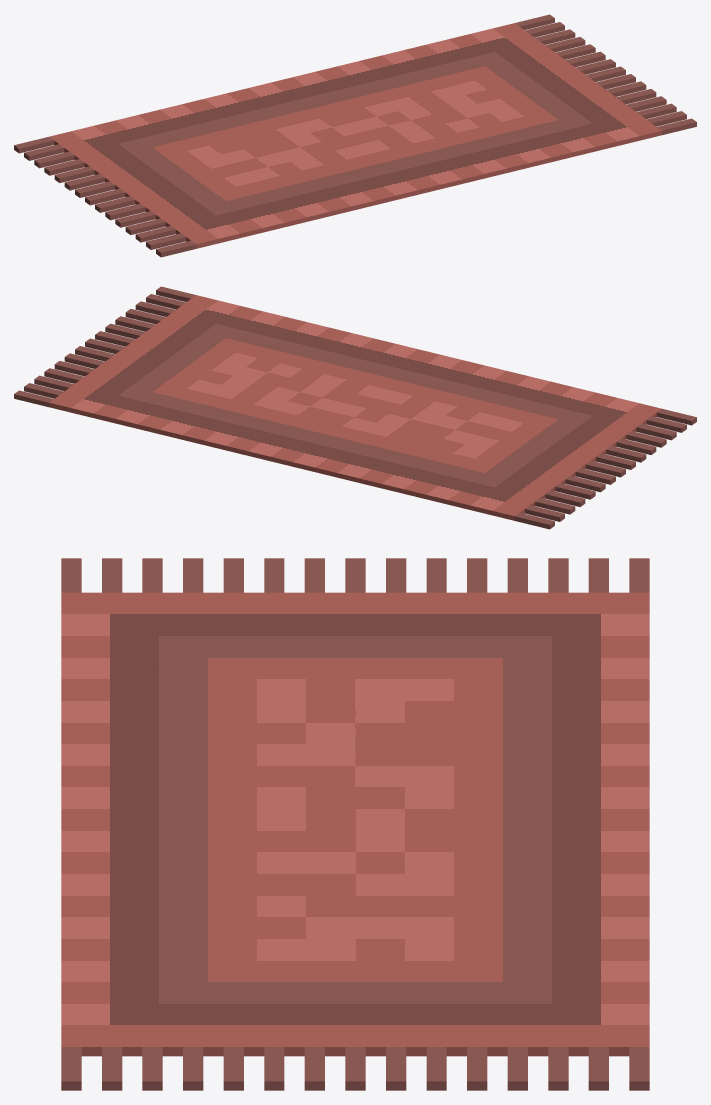
Rendered from square rug.fbx.
The picture shows the model from 3 angles, top to bottom: view 1: azimuth 30°, elevation 25°; view 2: azimuth 150°, elevation 25°; view 3: azimuth 270°, elevation 25°; orthographic projection. The views are drawn at different scales.
Visible parts, largest first — view 1: cube, cube_25, cube_17, cube_19, cube_20, cube_22, cube_26, cube_30, cube_16, cube_21, cube_24, cube_27 (+2 smaller); view 2: cube, cube_21, cube_17, cube_19, cube_22, cube_24, cube_26, cube_30, cube_16, cube_20, cube_23, cube_25 (+2 smaller); view 3: cube, cube_1, cube_2, cube_3, cube_4, cube_5, cube_6, cube_7, cube_8, cube_9, cube_10, cube_11 (+4 smaller).
Boxes of the visible parts, x1=… form: cube: x1=49, y1=23, x2=661, y2=248; cube_25: x1=44, y1=159, x2=84, y2=175; cube_17: x1=105, y1=203, x2=145, y2=220; cube_19: x1=85, y1=188, x2=125, y2=205; cube_20: x1=115, y1=211, x2=155, y2=227; cube_22: x1=135, y1=226, x2=175, y2=242; cube_26: x1=34, y1=151, x2=74, y2=168; cube_30: x1=64, y1=174, x2=104, y2=190; cube_16: x1=156, y1=240, x2=196, y2=257; cube_21: x1=125, y1=218, x2=165, y2=234; cube_24: x1=54, y1=166, x2=94, y2=182; cube_27: x1=14, y1=136, x2=54, y2=153; cube: x1=49, y1=295, x2=661, y2=520; cube_21: x1=626, y1=431, x2=666, y2=447; cube_17: x1=606, y1=446, x2=646, y2=462; cube_19: x1=585, y1=460, x2=625, y2=477; cube_22: x1=636, y1=423, x2=676, y2=440; cube_24: x1=555, y1=483, x2=595, y2=499; cube_26: x1=535, y1=498, x2=575, y2=514; cube_30: x1=565, y1=475, x2=605, y2=492; cube_16: x1=656, y1=408, x2=696, y2=425; cube_20: x1=616, y1=438, x2=656, y2=454; cube_23: x1=646, y1=416, x2=686, y2=432; cube_25: x1=545, y1=490, x2=585, y2=506; cube: x1=61, y1=592, x2=649, y2=1056; cube_1: x1=61, y1=1047, x2=81, y2=1090; cube_2: x1=102, y1=1047, x2=122, y2=1090; cube_3: x1=142, y1=1047, x2=162, y2=1090; cube_4: x1=183, y1=1047, x2=203, y2=1090; cube_5: x1=223, y1=1047, x2=243, y2=1090; cube_6: x1=345, y1=1047, x2=365, y2=1090; cube_7: x1=304, y1=1047, x2=324, y2=1090; cube_8: x1=264, y1=1047, x2=284, y2=1090; cube_9: x1=426, y1=1047, x2=446, y2=1090; cube_10: x1=386, y1=1047, x2=406, y2=1090; cube_11: x1=588, y1=1047, x2=608, y2=1090.
Bounding box in the file's own units: 76.25 × 0.625 × 36.25.
Materials: 1 (1 with a texture image).
